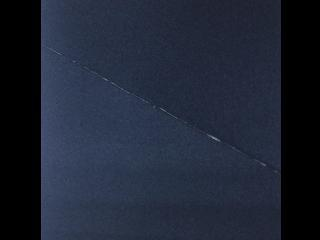crack: (41, 40, 281, 180)
